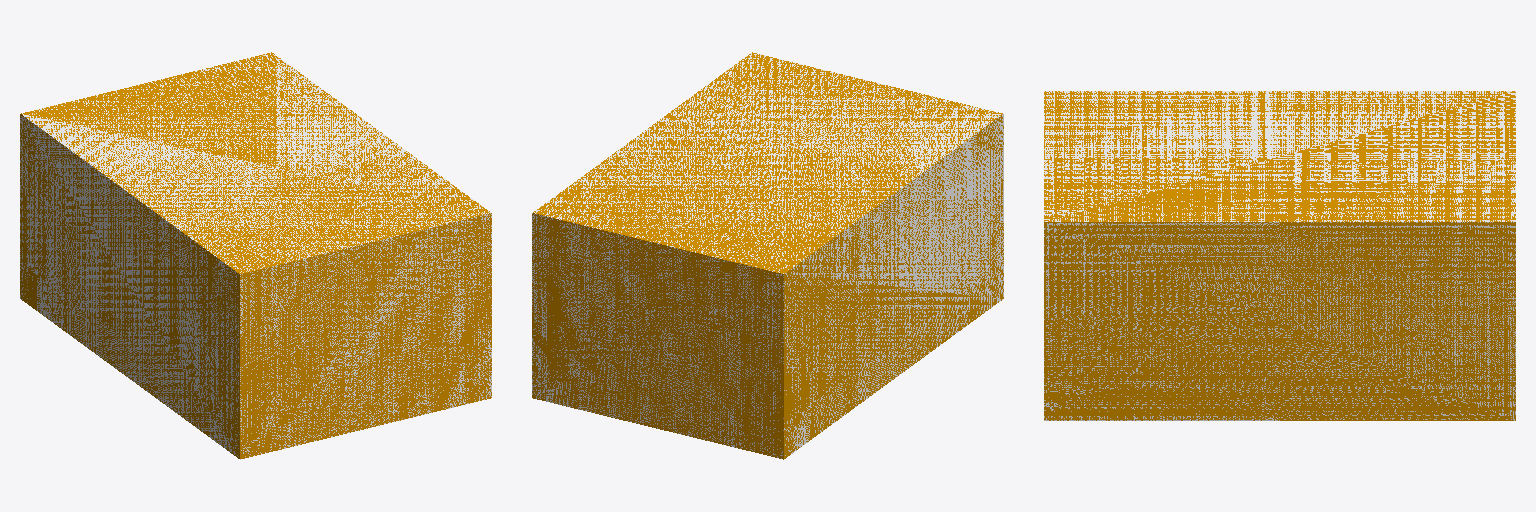
robot.urdf — my_object:
<?xml version="1.0" ?> 
<robot name="my_object" static="true">
  <link name="base_link">
  <inertial>
    <mass value="0.876" />
    <origin xyz="0 0 0.0" />
    <inertia ixx="1.0" ixy="0.0" ixz="0.0" iyy="1.0" iyz="0.0" izz="1.0"/>
  </inertial>
  <visual>
   <origin xyz="0 0 0.0" rpy="0 0 0" />
   <geometry>
     <mesh filename="package://cob_gazebo_objects/Media/models/box_wood.dae"/>
   </geometry>
  </visual>
  <collision>
   <origin xyz="0 0 0" rpy="0 0 0" />
   <geometry>
     <box size="0.198 0.3 0.14" />
   </geometry>
  </collision>     
  </link>

<gazebo>
	<static>true</static>
</gazebo>
</robot>

--- Render facts (derived) ---
The picture shows the robot from 3 angles, left to right: view 1: azimuth 30°, elevation 25°; view 2: azimuth 150°, elevation 25°; view 3: azimuth 270°, elevation 25°; orthographic projection.
Model my_object with 1 links and 0 joints (none), rooted at base_link, posed every joint at zero.
Links seen in each view (by area): view 1: base_link; view 2: base_link; view 3: base_link.
Link boxes in pixels (x1=…): base_link: x1=20, y1=52, x2=491, y2=459; base_link: x1=532, y1=52, x2=1003, y2=459; base_link: x1=1044, y1=91, x2=1515, y2=420.
Size in the robot's own frame: 0.1983 by 0.2995 by 0.1396 metres.
Meshes: 1 distinct files referenced, 1 mesh visuals loaded (1 Collada DAE).